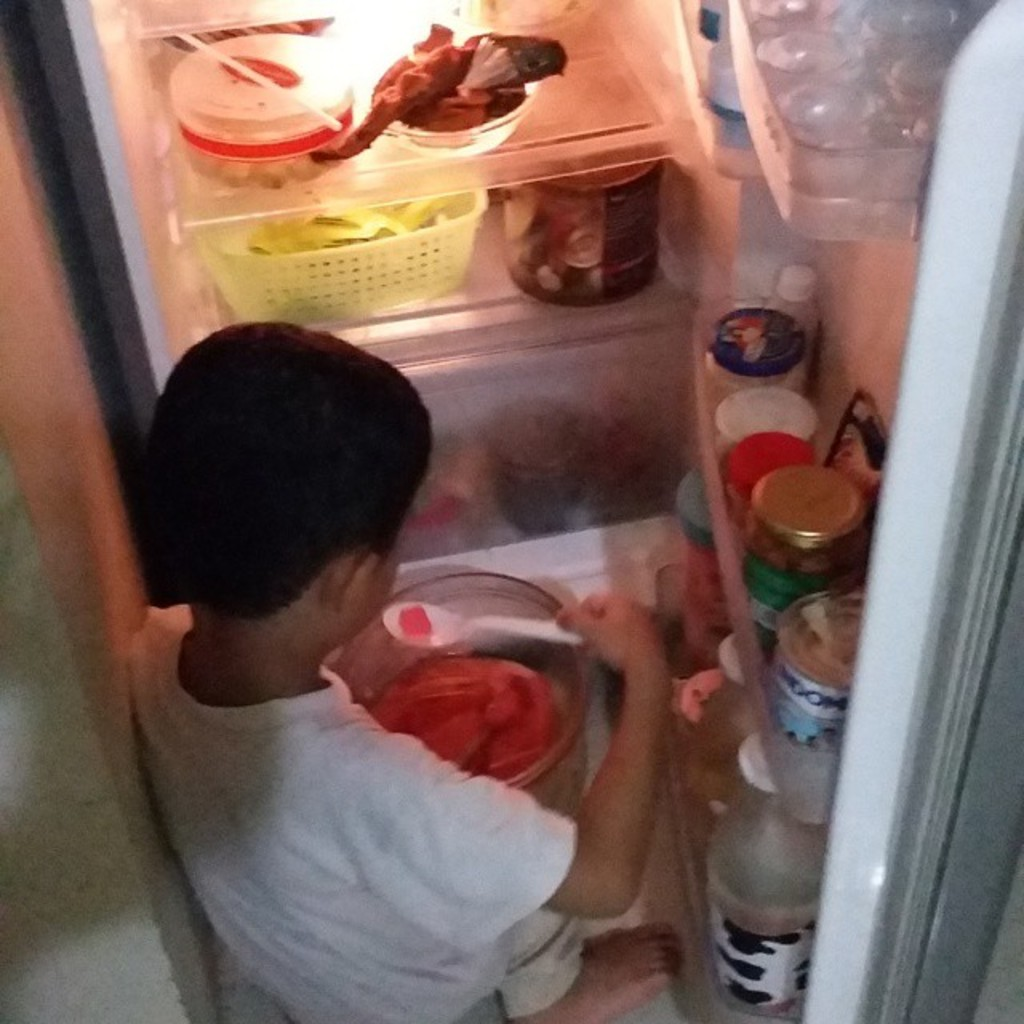refrigerator door: (766, 139, 1012, 951)
